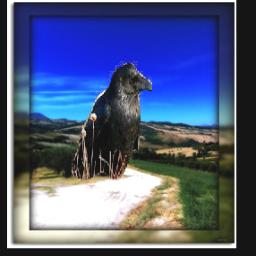Crow: (72, 62, 152, 183)
